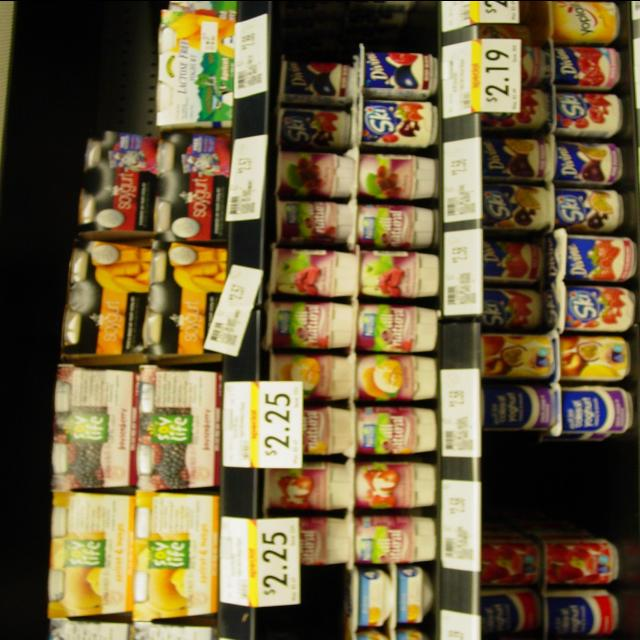empty_space: (496, 445, 633, 522), (88, 0, 159, 120), (289, 7, 435, 41), (286, 572, 342, 628)
